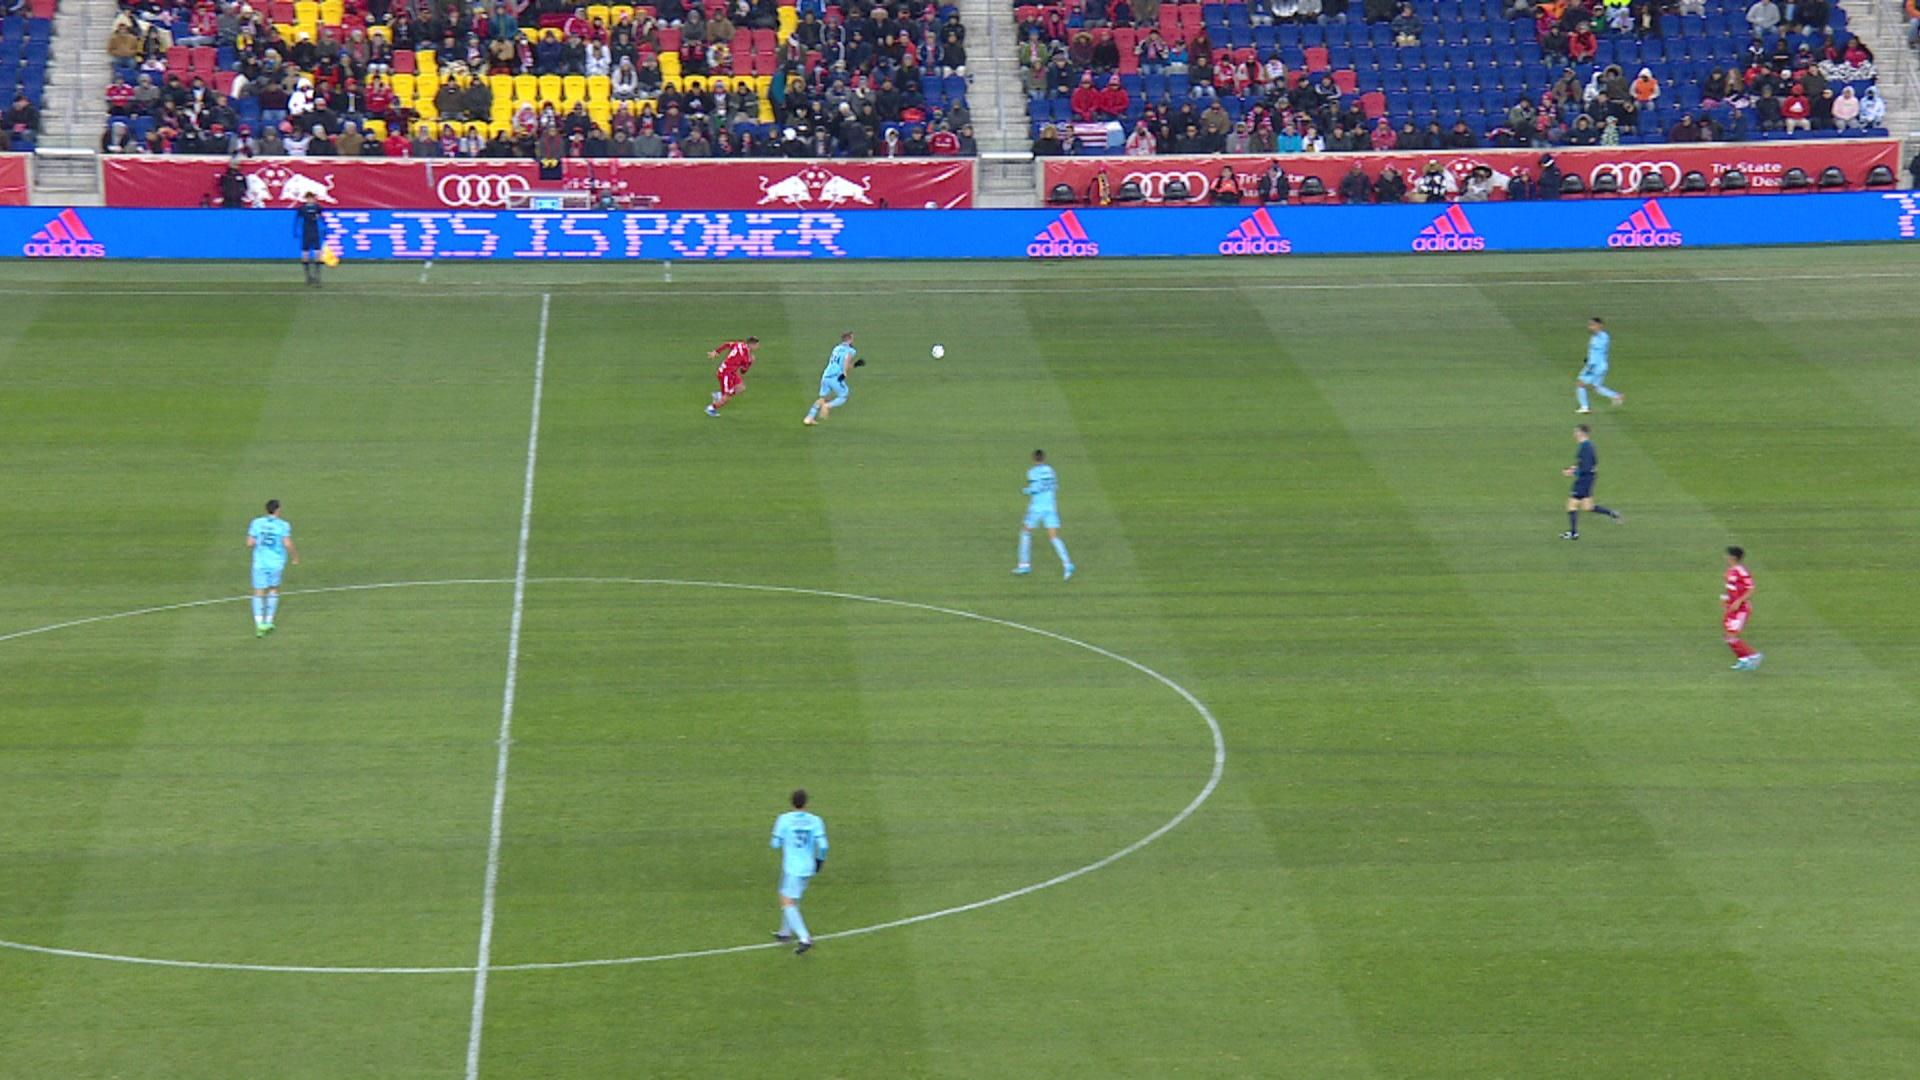football: (930, 344, 946, 359)
